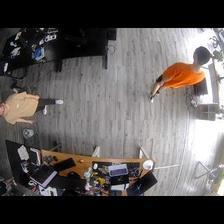normal: (147, 47, 211, 100), (1, 93, 64, 125)
